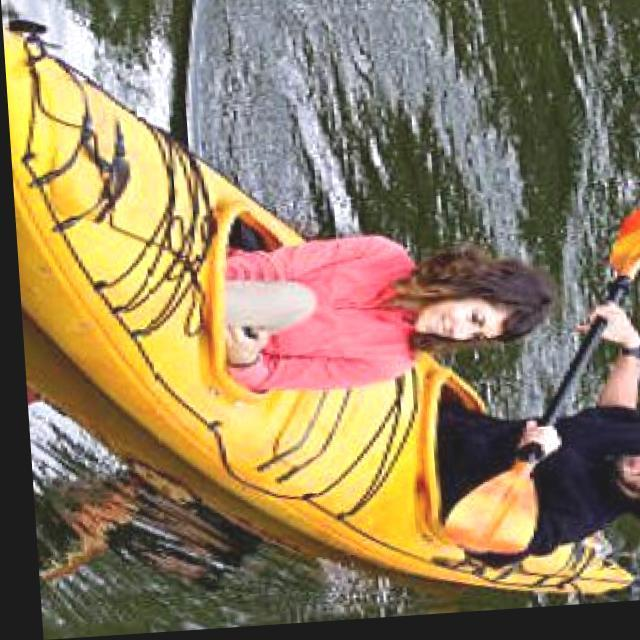kayak: (2, 30, 628, 607)
